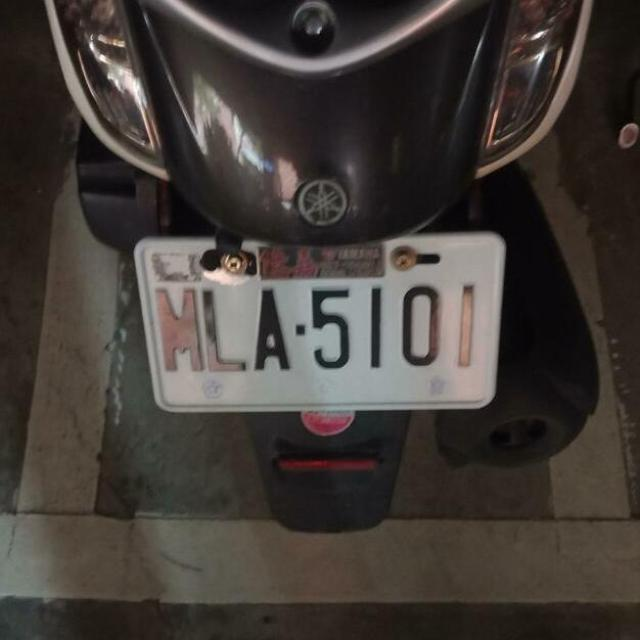W: (125, 206, 519, 434)
